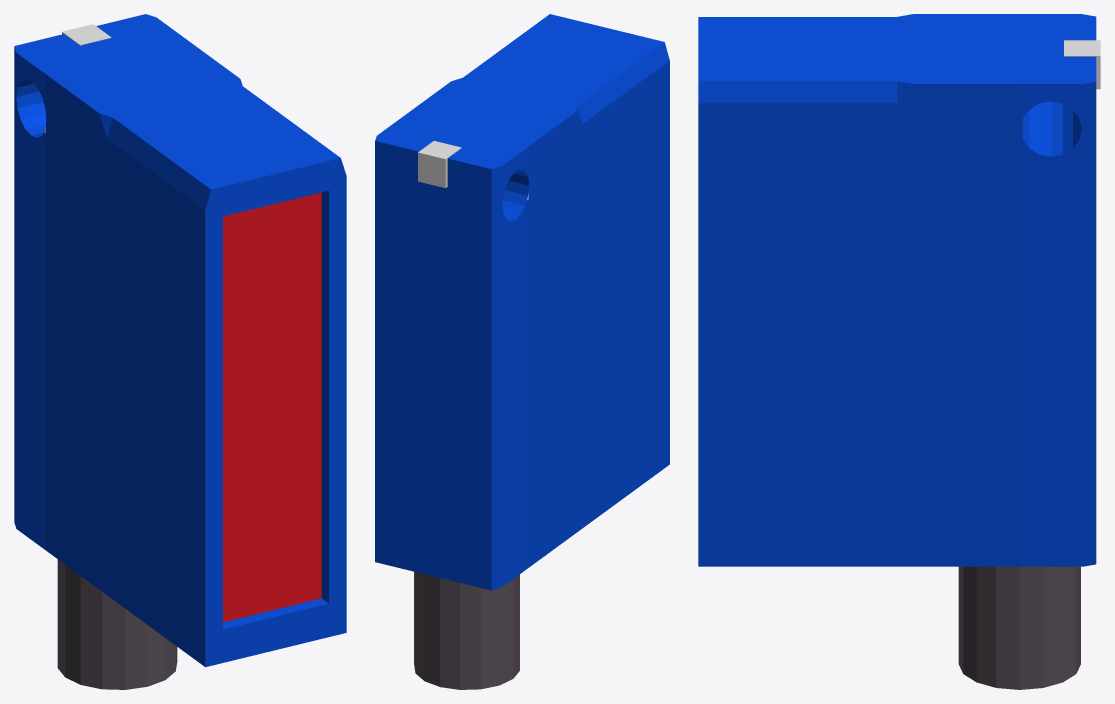
The model's file is ProxySensor.fbx.
The picture shows the model from 3 angles, left to right: view 1: azimuth 30°, elevation 25°; view 2: azimuth 150°, elevation 25°; view 3: azimuth 270°, elevation 25°; orthographic projection. The views are drawn at different scales.
Parts seen in each view (by area): view 1: SensorBody, Indicator; view 2: SensorBody, Indicator; view 3: SensorBody, Indicator.
Boxes of the visible parts, left/top/right/bottom form: SensorBody: left=14, top=14, right=346, bottom=689; Indicator: left=62, top=24, right=111, bottom=45; SensorBody: left=375, top=14, right=669, bottom=689; Indicator: left=418, top=141, right=461, bottom=188; SensorBody: left=698, top=14, right=1096, bottom=689; Indicator: left=1064, top=40, right=1100, bottom=89.
Size of the model in its own units: 6.57 by 2.7 by 11.1.
